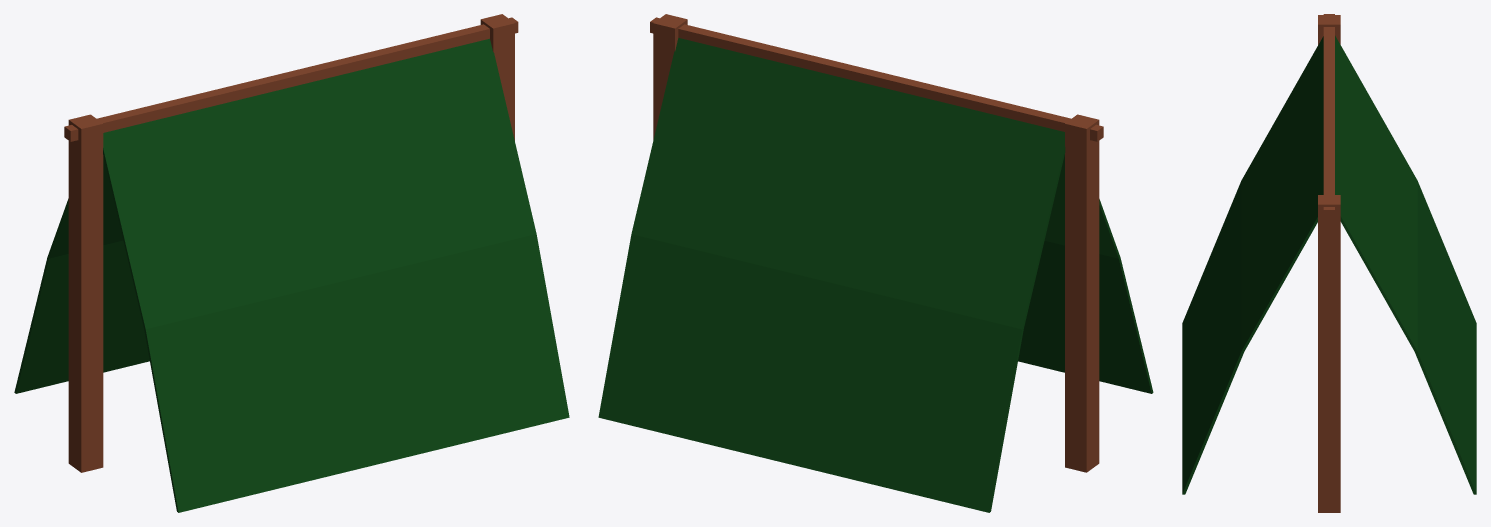
File: GreenTent.glb
The picture shows the model from 3 angles, left to right: view 1: azimuth 30°, elevation 25°; view 2: azimuth 150°, elevation 25°; view 3: azimuth 270°, elevation 25°; orthographic projection. The views are drawn at different scales.
Parts seen in each view (by area): view 1: Cube.004, Cube.001, Cube.003, Cube.002, Cube; view 2: Cube.003, Cube.001, Cube.004, Cube.002, Cube; view 3: Cube.003, Cube.004, Cube, Cube.002, Cube.001.
Boxes of the visible parts, bbox=[...] form: Cube.004: bbox=[103, 38, 569, 512]; Cube.001: bbox=[68, 114, 103, 472]; Cube.003: bbox=[14, 156, 149, 393]; Cube.002: bbox=[64, 17, 518, 141]; Cube: bbox=[480, 14, 514, 140]; Cube.003: bbox=[598, 38, 1065, 512]; Cube.001: bbox=[1065, 114, 1099, 472]; Cube.004: bbox=[1018, 154, 1153, 393]; Cube.002: bbox=[650, 17, 1103, 141]; Cube: bbox=[653, 14, 687, 139]; Cube.003: bbox=[1335, 35, 1476, 494]; Cube.004: bbox=[1182, 36, 1323, 494]; Cube: bbox=[1318, 195, 1340, 512]; Cube.002: bbox=[1323, 14, 1334, 219]; Cube.001: bbox=[1318, 15, 1340, 44].
Bounding box in the file's own units: 40.87 × 30 × 25.98.
